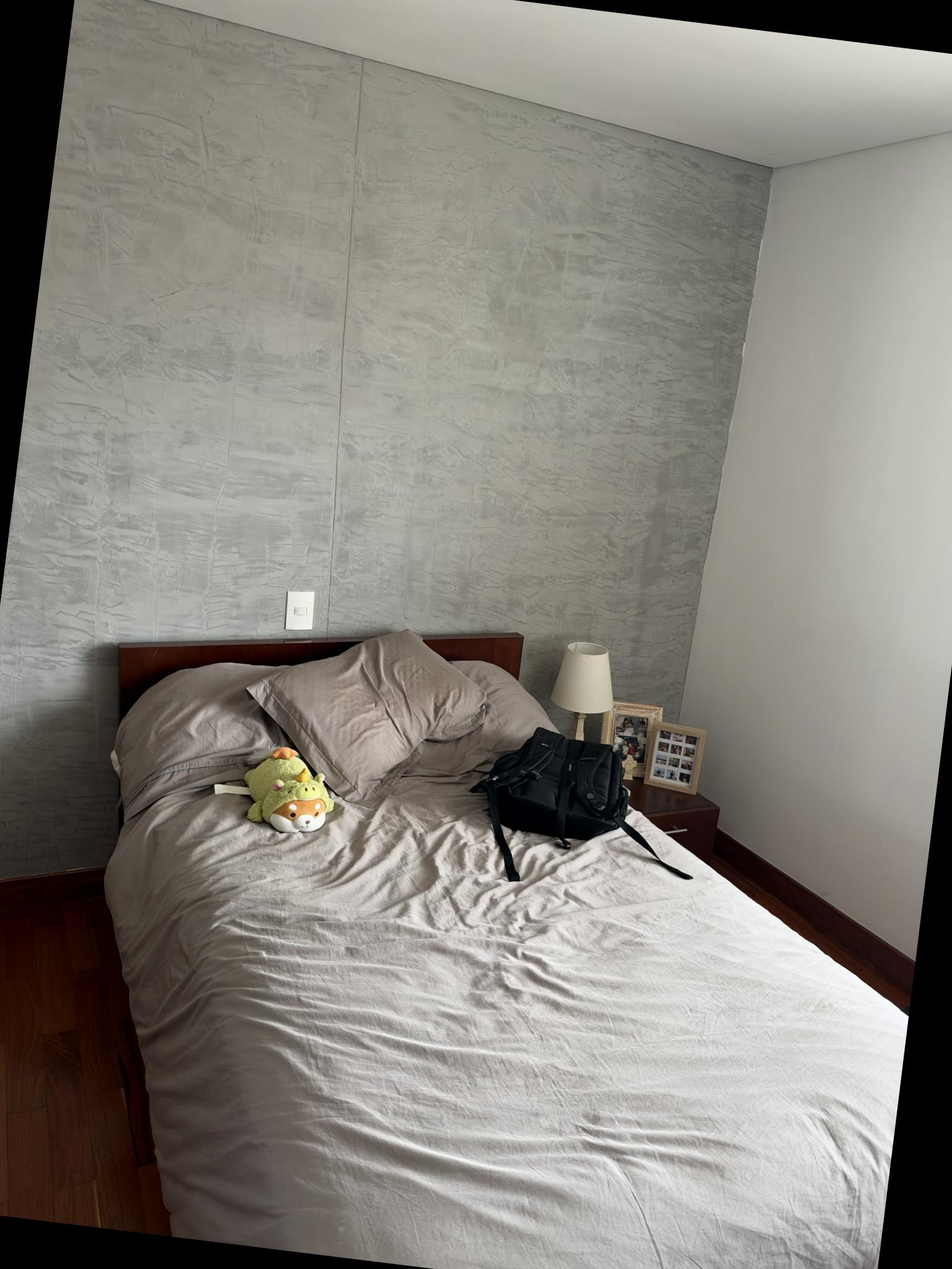peluche_martin: (237, 742, 341, 838)
